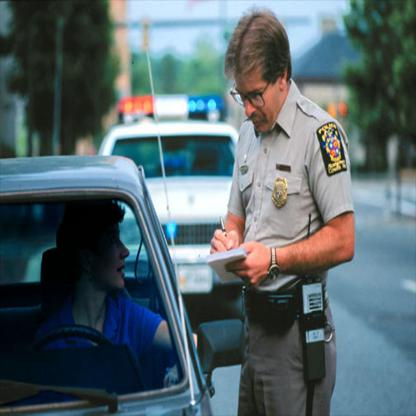face: (235, 68, 281, 136), (92, 220, 130, 291)
